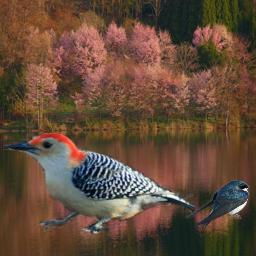Swallow: (185, 180, 250, 227)
Woodpecker: (4, 133, 195, 237)
